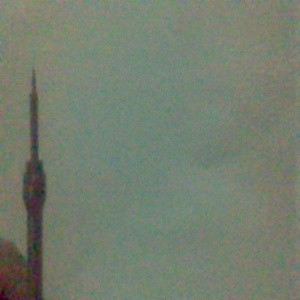solder: (21, 67, 47, 300)
